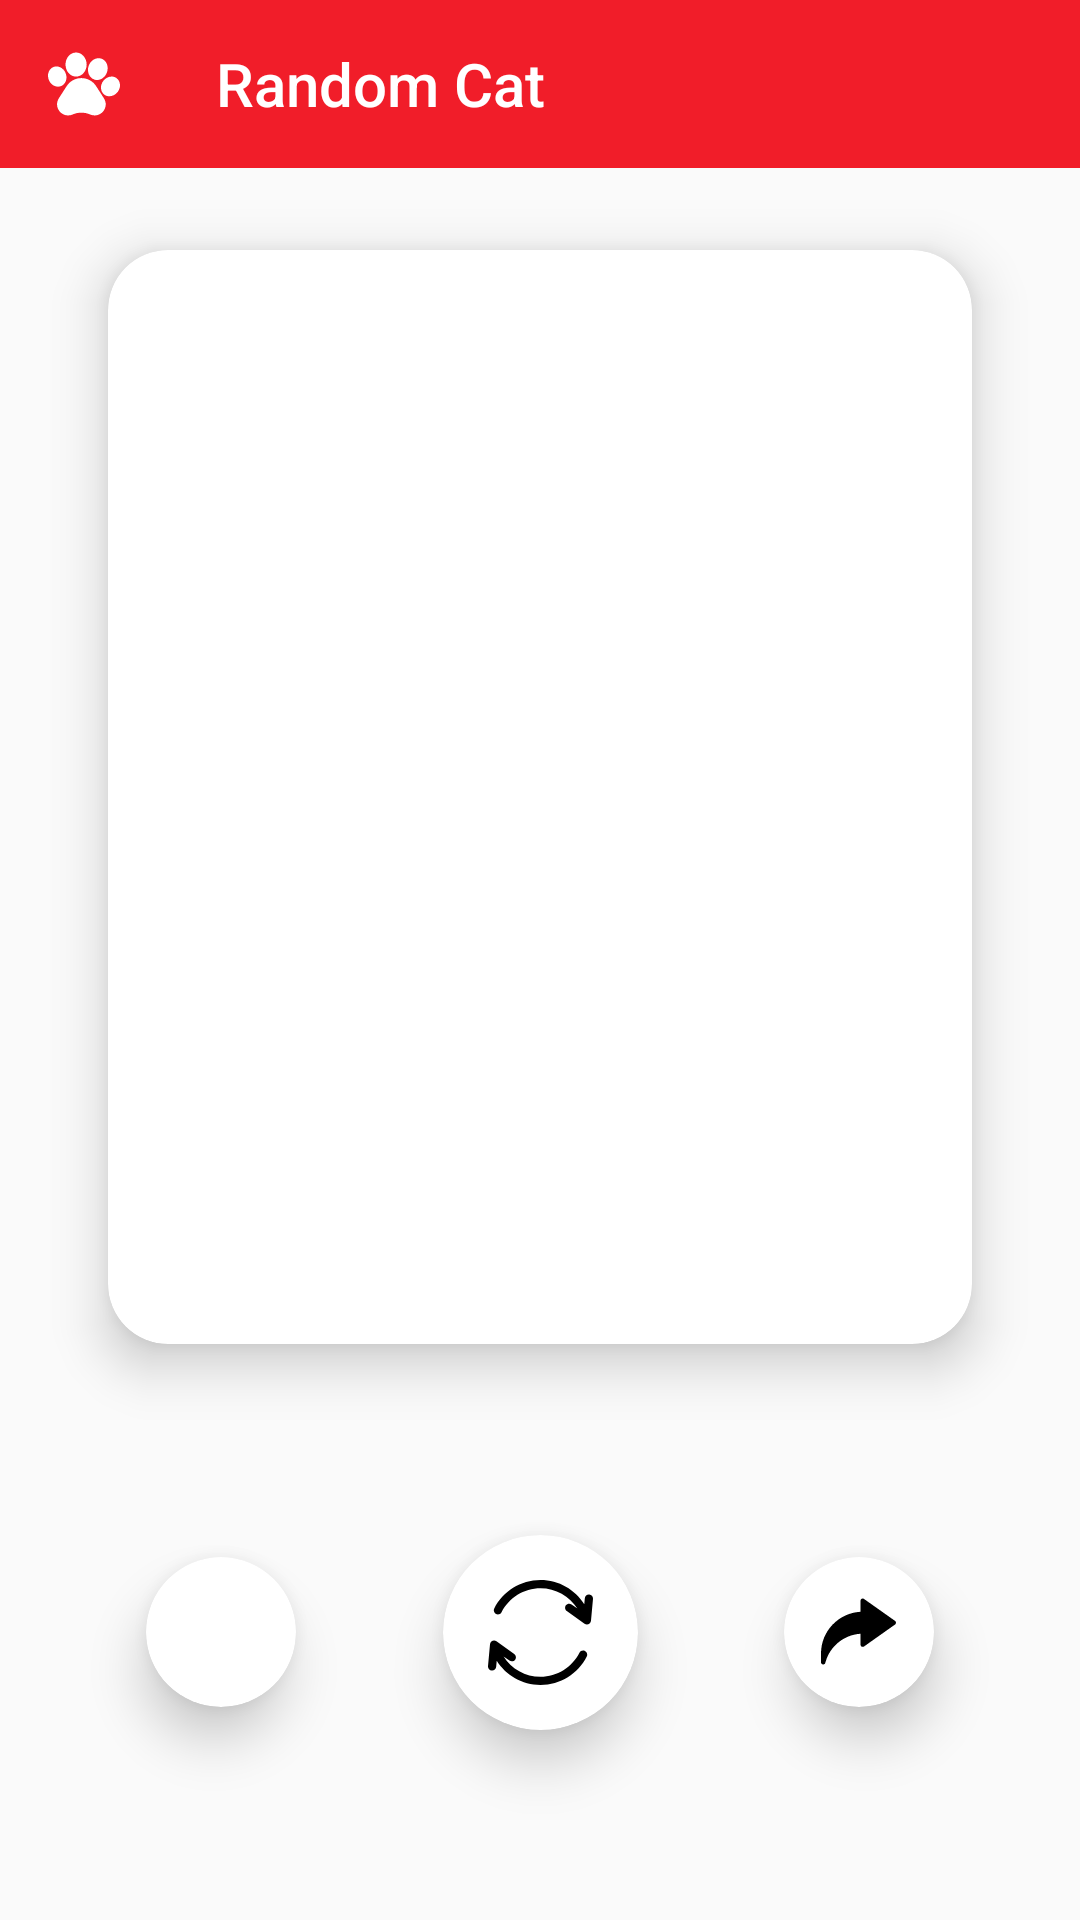

Where icons sit on this 1080px×1920px app screen, as (x1, y1, x2, y2):
refresh: (488, 1580, 593, 1685)
